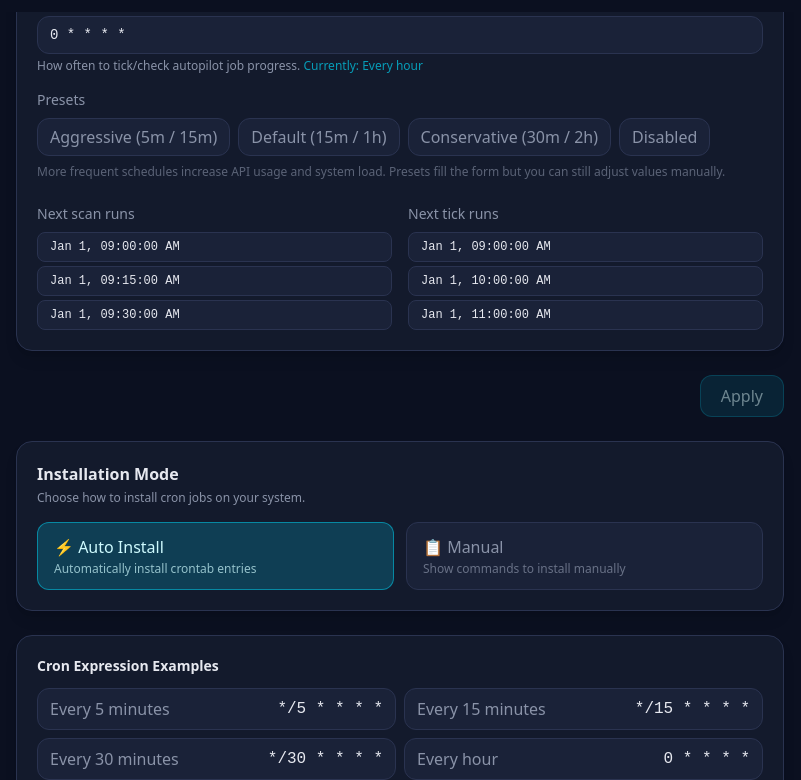
CronSettingsPage › apply button dirty state › enables Apply button after tick cron input changes
(page scrolled)
Type "0 */2 * * *" into the field labelled "Tick Cron" at (400,34), box [37,16,763,54]
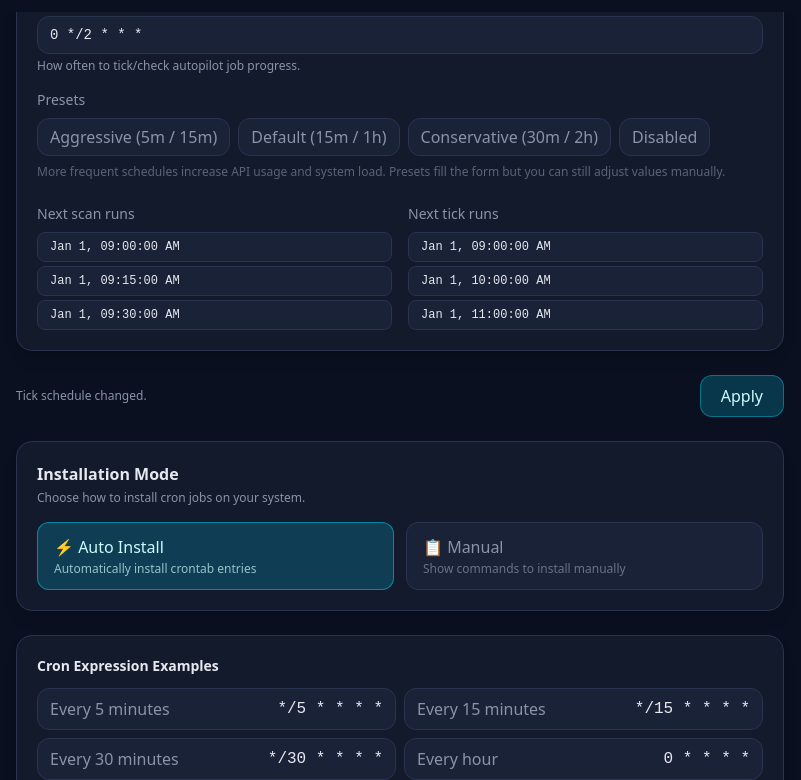
expect the button "Apply" is enabled: met, box [700,374,784,416]
